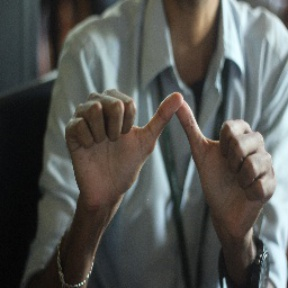A: (87, 85, 259, 204)
